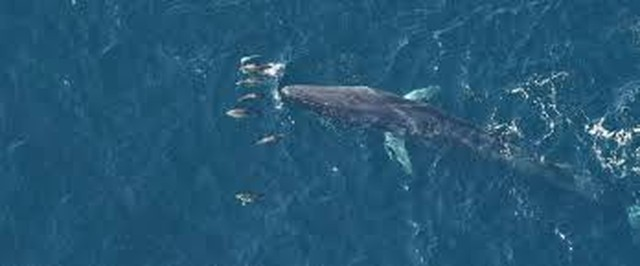whale: (279, 83, 624, 215)
